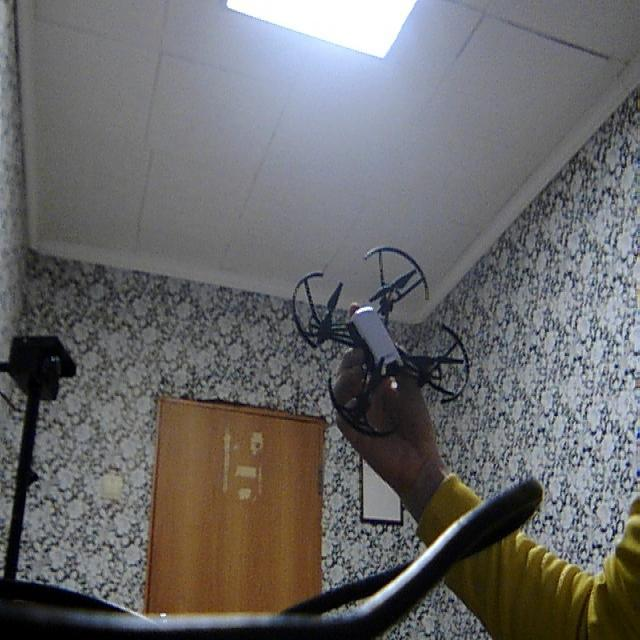drone: (286, 234, 478, 451)
